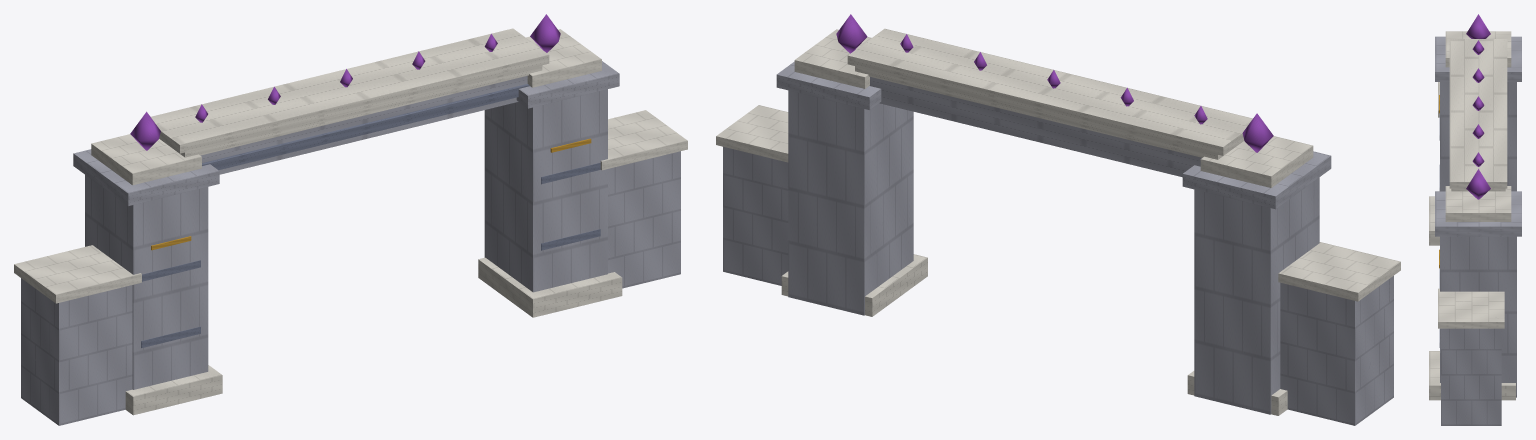
Rendered from high_crown_gate_frame.obj.
3 renders of one model, left to right at view 1: azimuth 30°, elevation 25°; view 2: azimuth 150°, elevation 25°; view 3: azimuth 270°, elevation 25°, orthographic. The views are drawn at different scales.
Visible parts, largest first — view 1: high_crown_gate_frame; view 2: high_crown_gate_frame; view 3: high_crown_gate_frame.
Part boxes in pixels (left/top/right/bottom): high_crown_gate_frame: left=14, top=14, right=687, bottom=425; high_crown_gate_frame: left=716, top=14, right=1400, bottom=425; high_crown_gate_frame: left=1429, top=14, right=1521, bottom=425.
Size of the model in its own units: 22.92 by 9.36 by 3.68.
Materials: 6 (6 with a texture image).
